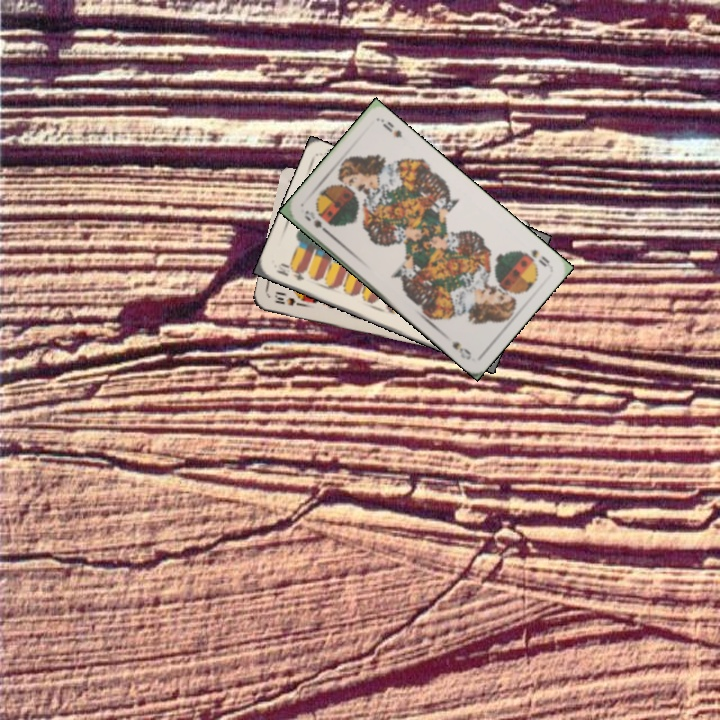E10: (272, 259, 307, 283)
S10: (270, 290, 306, 309)
SO: (300, 206, 333, 238), (520, 245, 553, 270)
